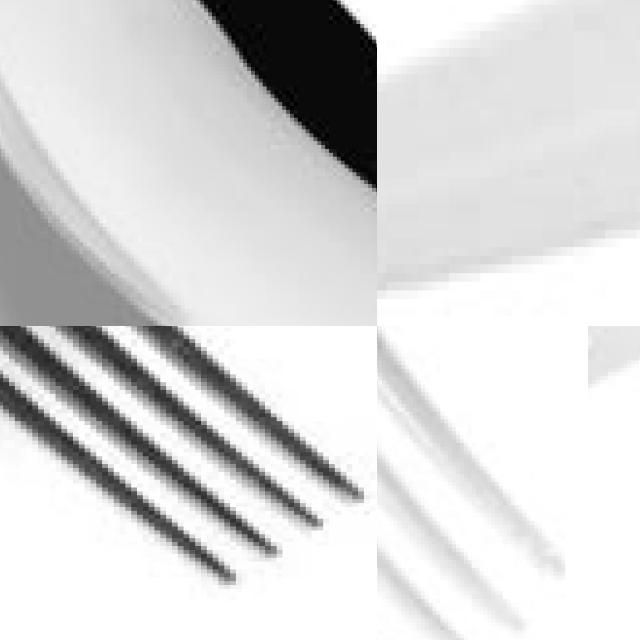forks: (0, 326, 377, 582), (377, 326, 635, 640)
spoons: (0, 0, 377, 326)
